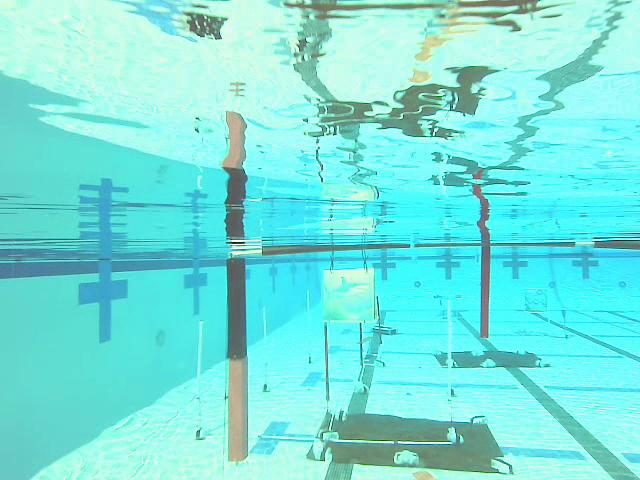black_poster: (322, 319, 331, 401), (358, 308, 365, 365)
divider: (480, 247, 491, 338)
left_gate_poster: (224, 259, 253, 461)
shark: (322, 269, 374, 323)
white_poster: (446, 300, 455, 404), (195, 322, 206, 399), (261, 306, 269, 364), (305, 291, 311, 335)
